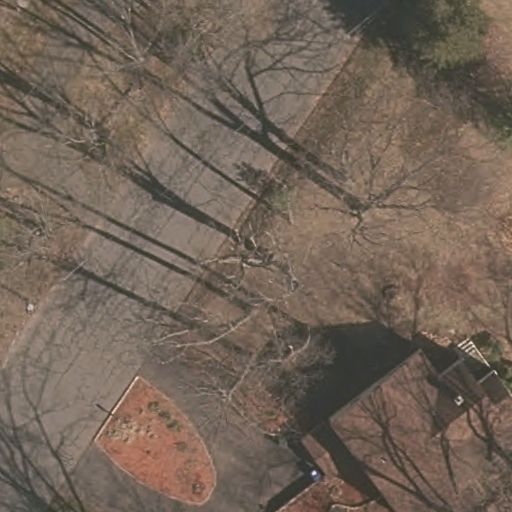DT: (11, 289, 43, 323)
